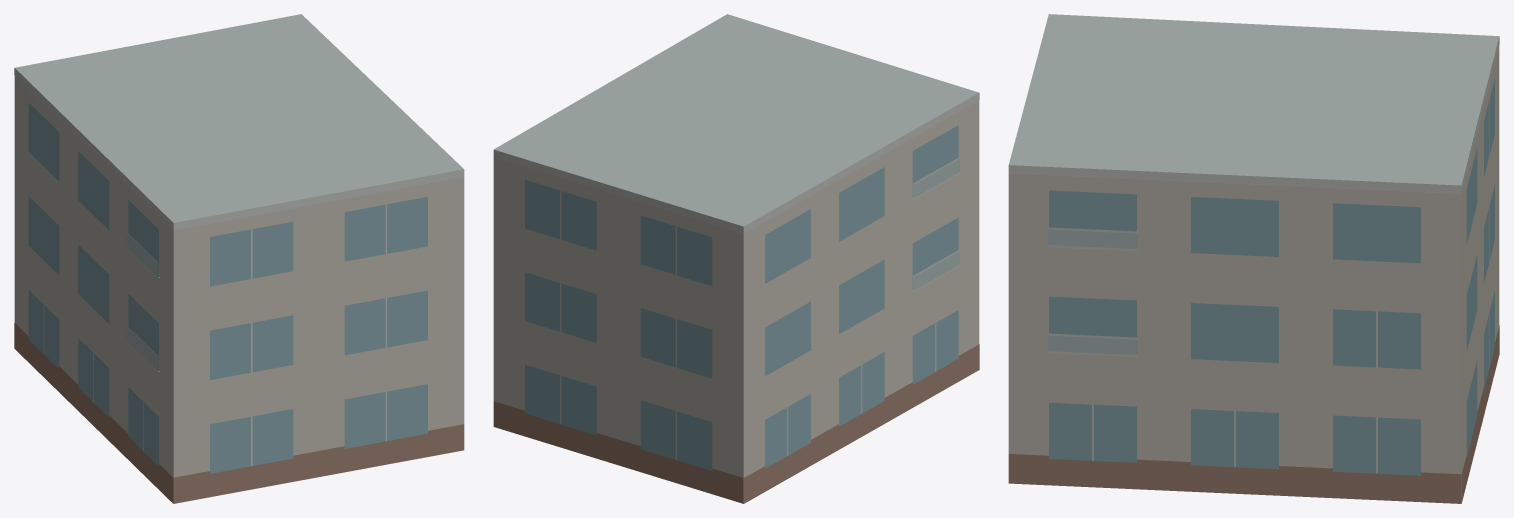
Rendered from survey-upis-32803896.glb.
The picture shows the model from 3 angles, left to right: view 1: azimuth 30°, elevation 25°; view 2: azimuth 150°, elevation 25°; view 3: azimuth 270°, elevation 25°; orthographic projection. The views are drawn at different scales.
Visible parts, largest first — view 1: survey-upis-32803896.tmp; view 2: survey-upis-32803896.tmp; view 3: survey-upis-32803896.tmp.
Boxes of the visible parts, x1,y1,x2,y2 form: survey-upis-32803896.tmp: (14, 14, 464, 503); survey-upis-32803896.tmp: (493, 14, 979, 503); survey-upis-32803896.tmp: (1008, 14, 1499, 503).
Size of the model in its own units: 10.58 by 9.15 by 12.79.
